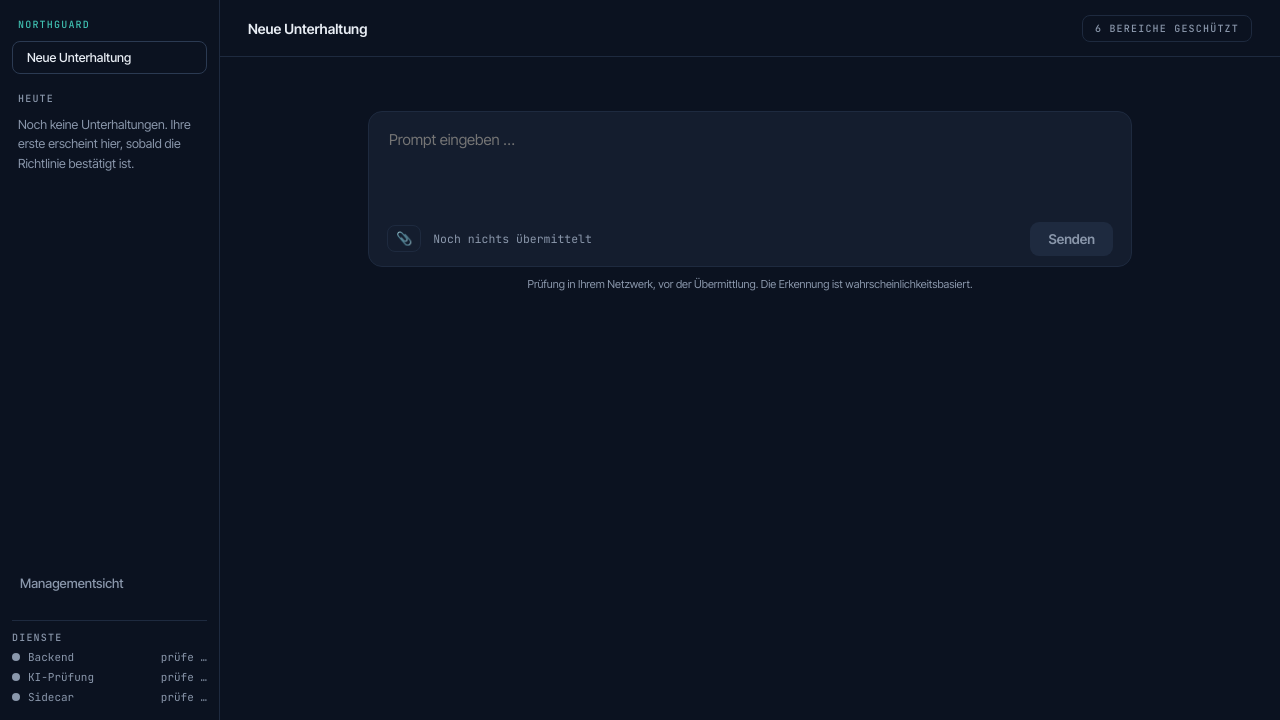
Test case: SF-5099 App integration (real App, mocked gateway) › the report flow opens from a touched finding
Type "schreib eine mail" into the text box with test id "composer-input" at [750, 163], box [387,126,1113,200]
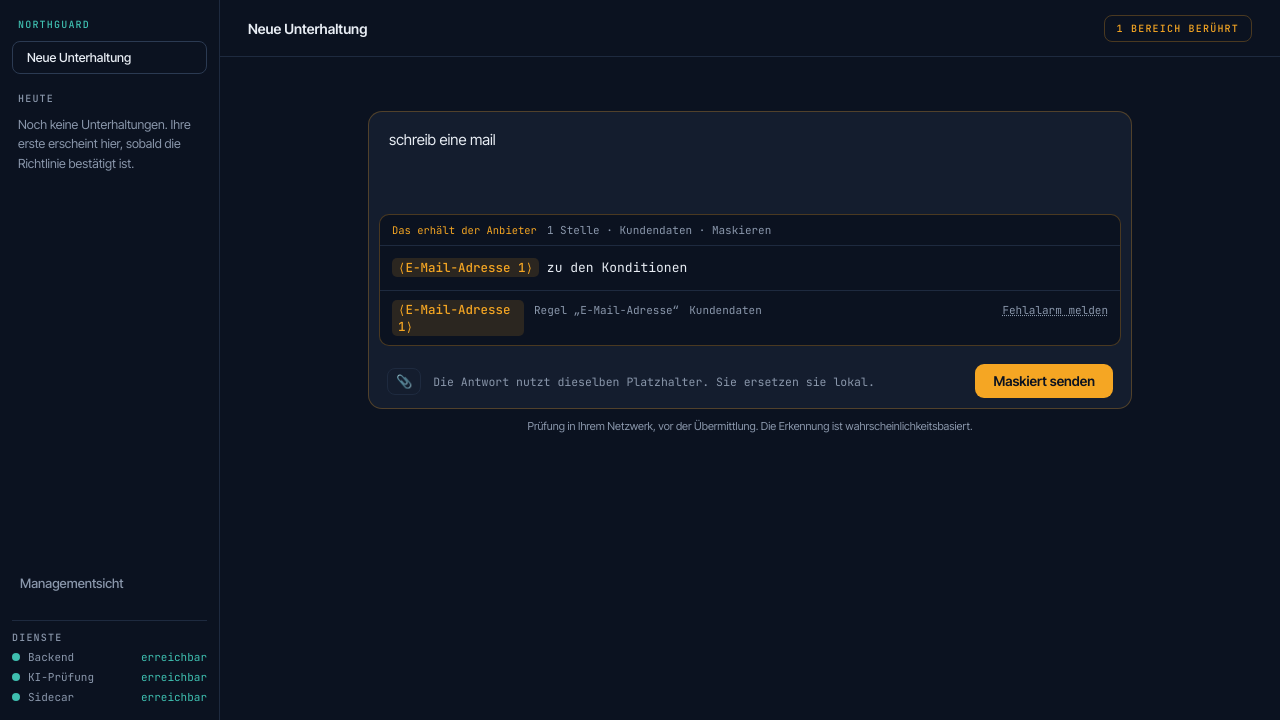
Now the element with test id "composer" has attribute data-state="touched", box [368,111,1132,409]
Click the button "Fehlalarm melden" at [1055, 310], box [1002,303,1108,317]
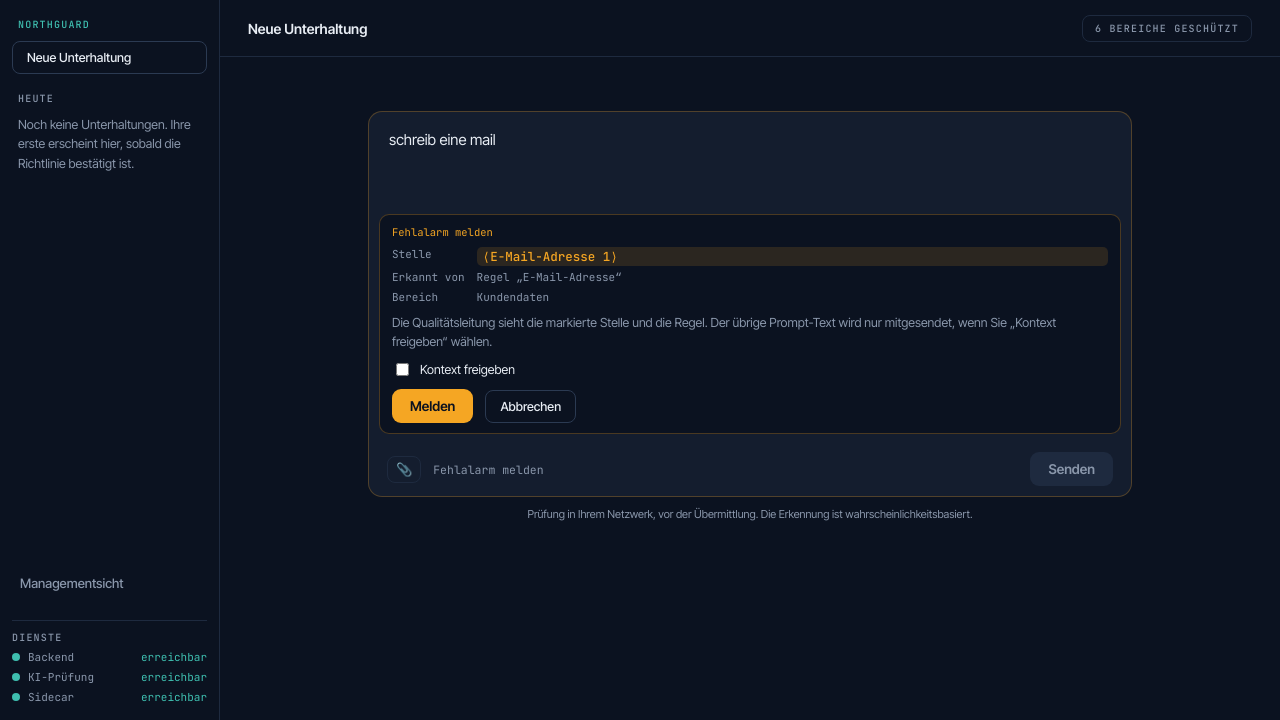
Now the element with test id "report-panel" is shown, box [379,214,1121,434]
Now the text with test id "report-privacy" is shown, box [392,313,1108,352]
Click the button with test id "report-submit" at [433, 406], box [392,389,473,423]
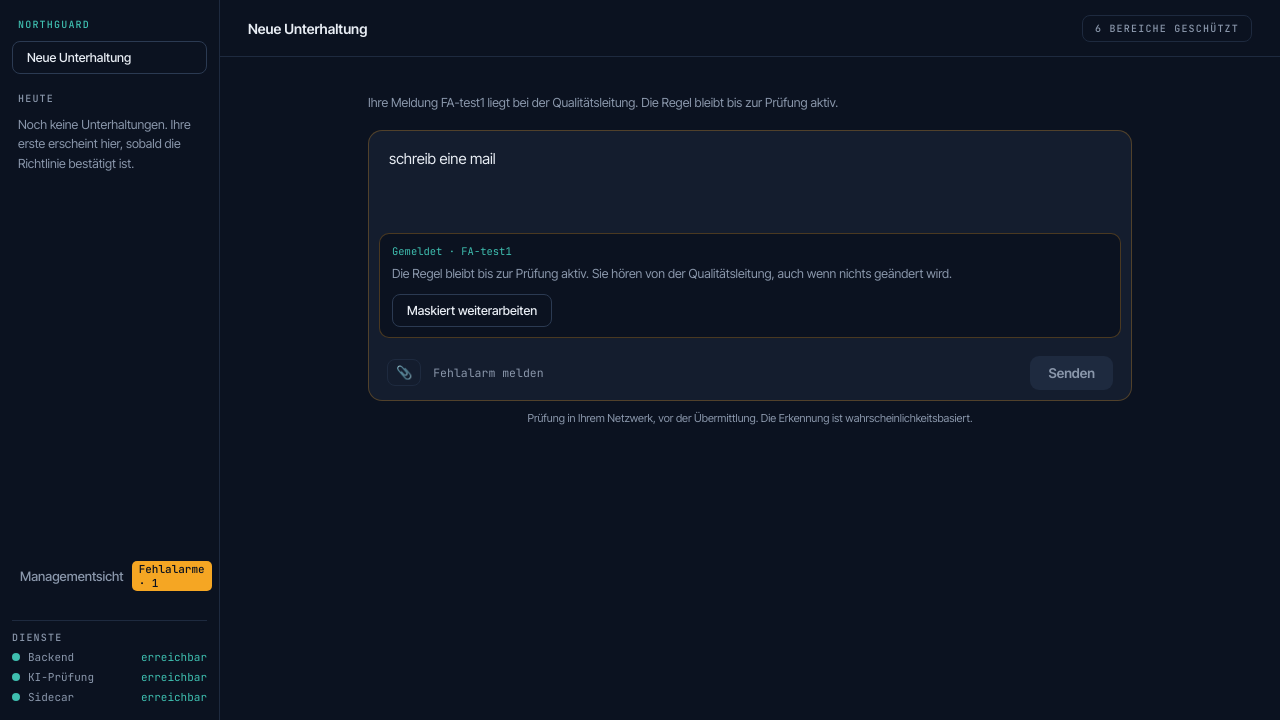
Now the element with test id "report-done" is shown, box [379,233,1121,338]
Now the text "Fehlalarme · 1" is shown, box [132,561,212,591]
